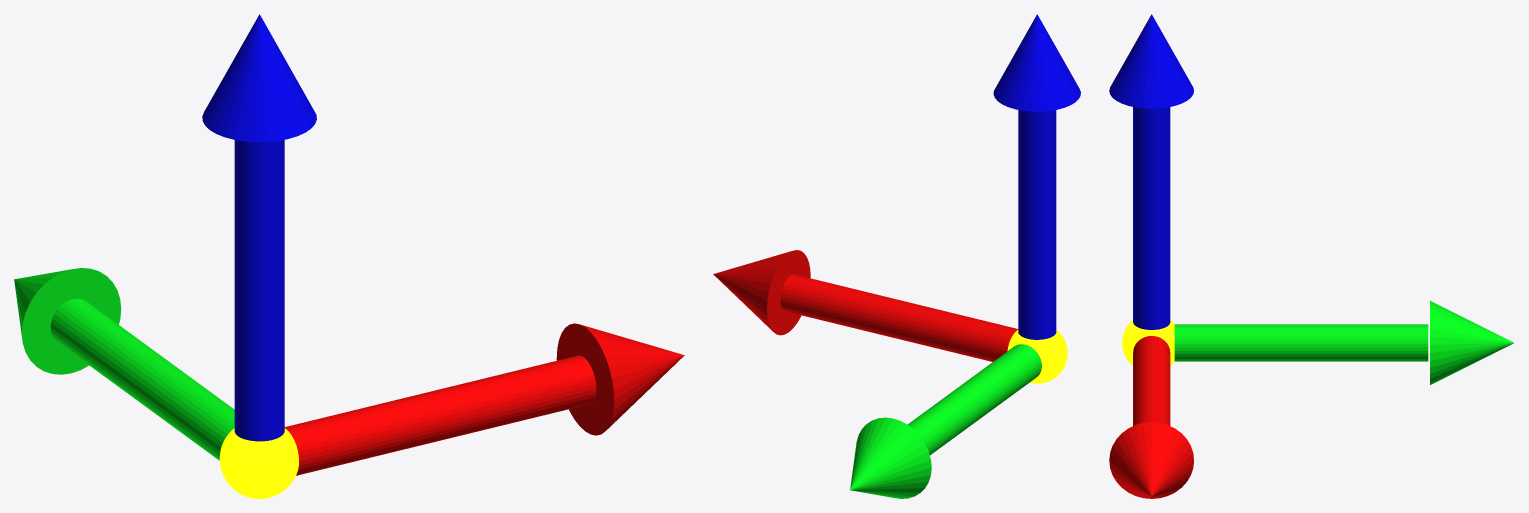
File: coordinate-system.dae
The picture shows the model from 3 angles, left to right: view 1: azimuth 30°, elevation 25°; view 2: azimuth 150°, elevation 25°; view 3: azimuth 270°, elevation 25°; orthographic projection. The views are drawn at different scales.
Parts seen in each view (by area): view 1: Z-Axis, X-Axis, Y-Axis, Icosphere; view 2: Z-Axis, X-Axis, Y-Axis, Icosphere; view 3: Y-Axis, Z-Axis, X-Axis, Icosphere.
Part boxes in pixels (x1,y1,x2,y2): Z-Axis: [202, 14, 316, 441]; X-Axis: [284, 323, 684, 475]; Y-Axis: [14, 268, 234, 460]; Icosphere: [219, 428, 298, 498]; Z-Axis: [993, 14, 1080, 339]; X-Axis: [713, 250, 1018, 361]; Y-Axis: [850, 344, 1041, 498]; Icosphere: [1007, 330, 1067, 383]; Y-Axis: [1174, 301, 1513, 384]; Z-Axis: [1109, 14, 1193, 329]; X-Axis: [1109, 336, 1193, 498]; Icosphere: [1122, 320, 1174, 365].
Bounding box in the file's own units: 0.5139 × 0.5139 × 0.5139.
